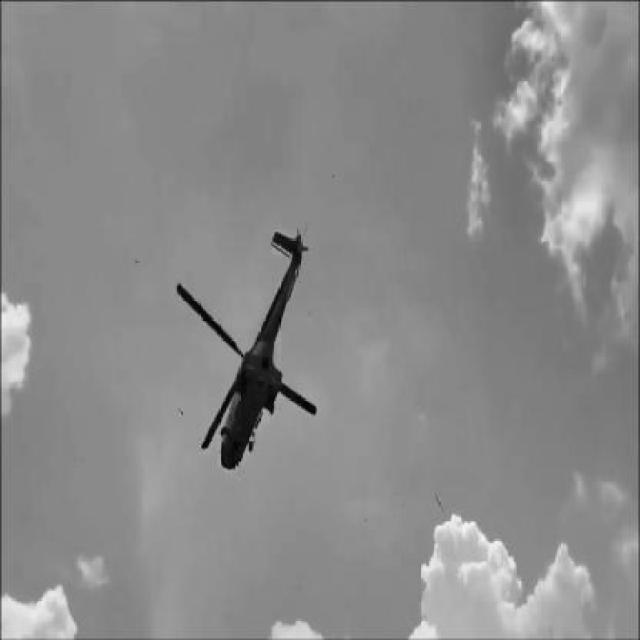Helicopter: (177, 223, 320, 474)
